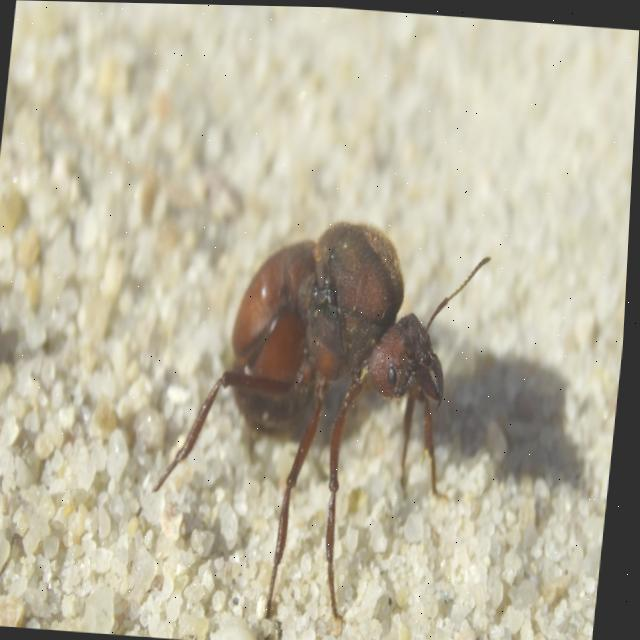Alive-Female-Dealate: (128, 202, 497, 640)
